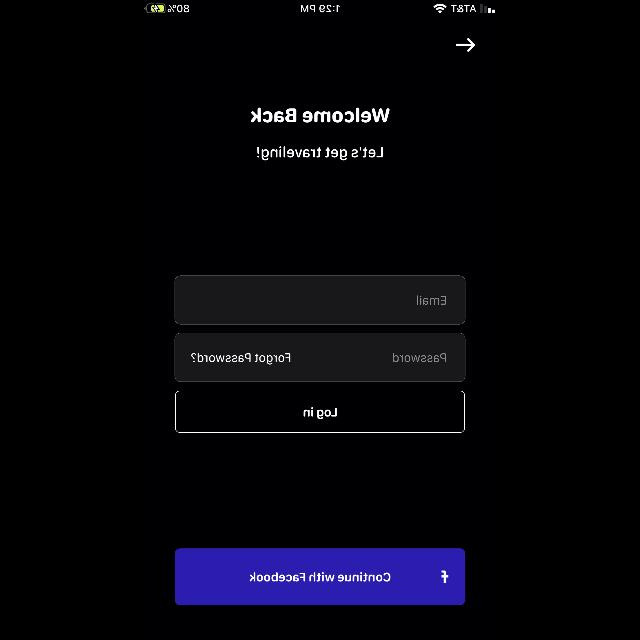icon: (456, 38, 476, 52)
input: (174, 333, 466, 382), (174, 276, 466, 324)
text: (251, 108, 389, 122), (258, 147, 382, 161), (192, 353, 290, 365), (392, 353, 446, 362), (416, 296, 446, 304)
textbutton: (175, 549, 465, 605), (176, 391, 464, 433)
uppertaskbar: (140, 0, 500, 14)
